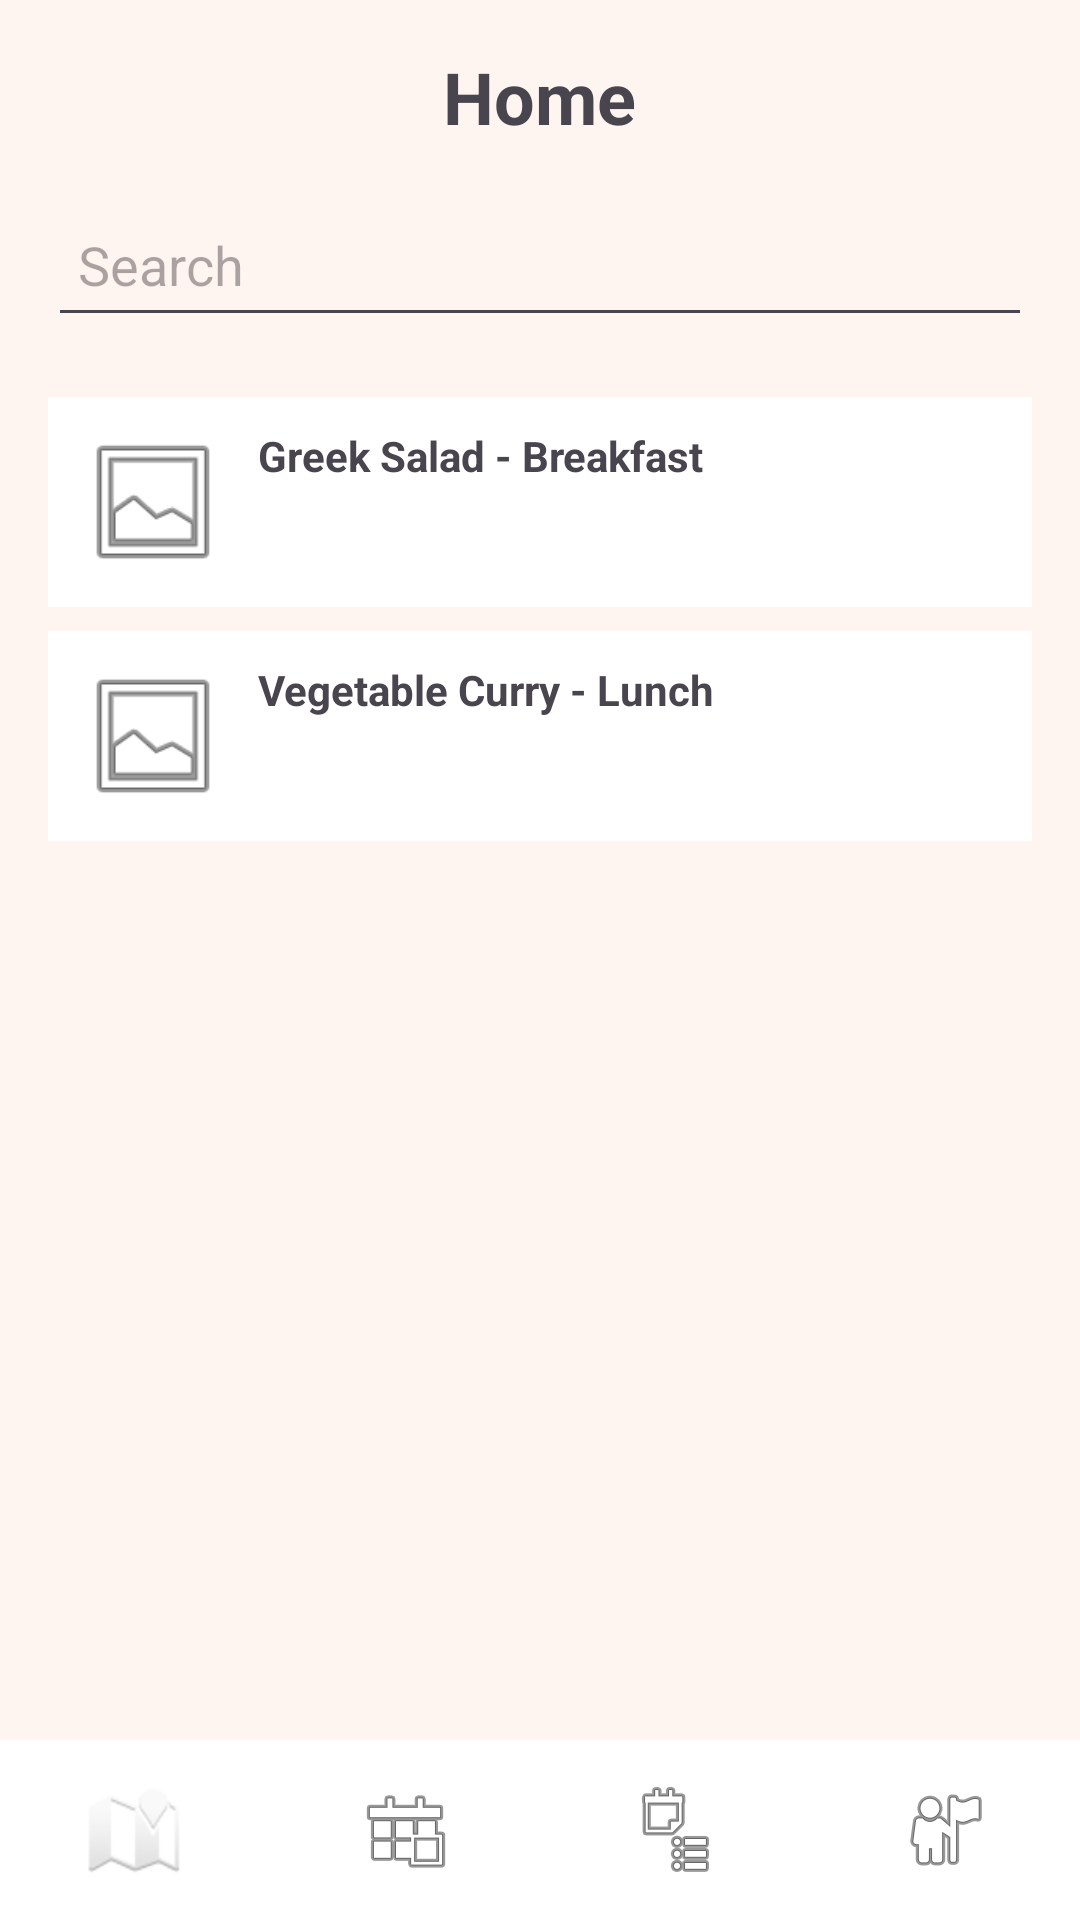

Point at icon controls on the screen. Image size 1080 x 1920, points as [x,y].
Location: [134,1835]
Profile: [946,1830]
